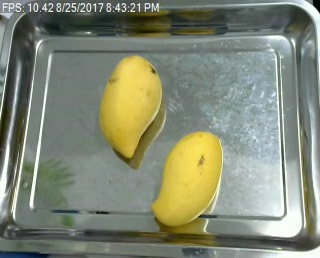Mango: (94, 54, 162, 162), (151, 130, 227, 226)
